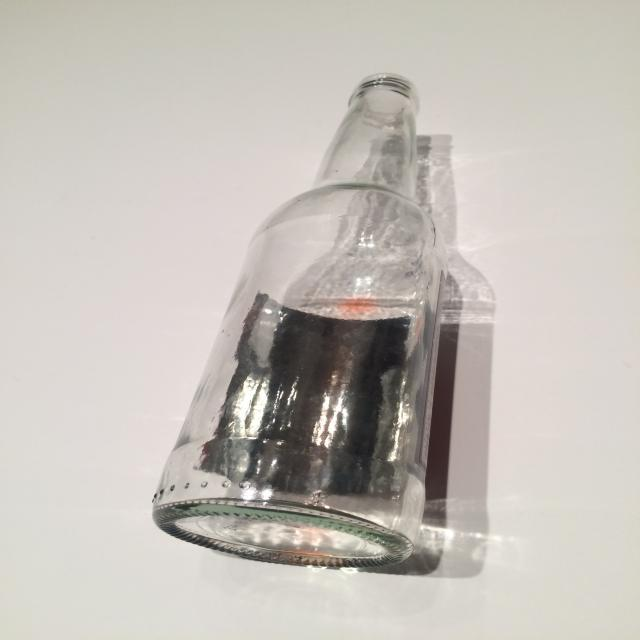glass: (151, 71, 447, 569)
